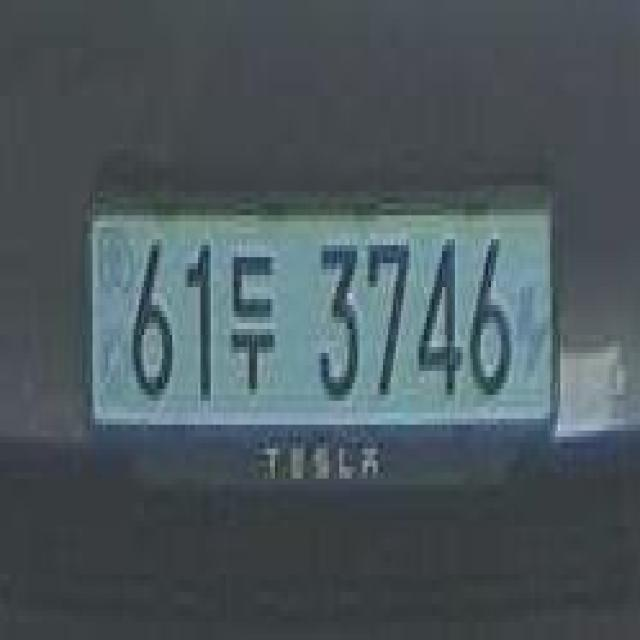EV_plate: (84, 174, 562, 513)
